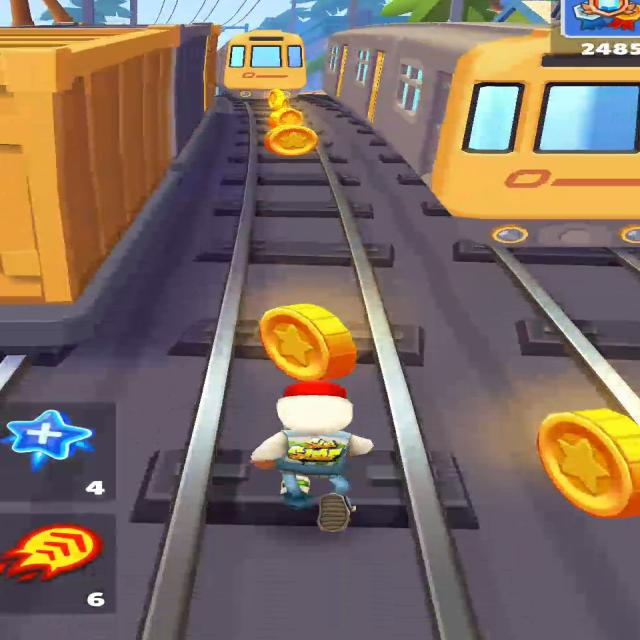train: (324, 22, 639, 255), (0, 27, 179, 306), (219, 30, 306, 99), (173, 24, 210, 153), (205, 26, 219, 111)
